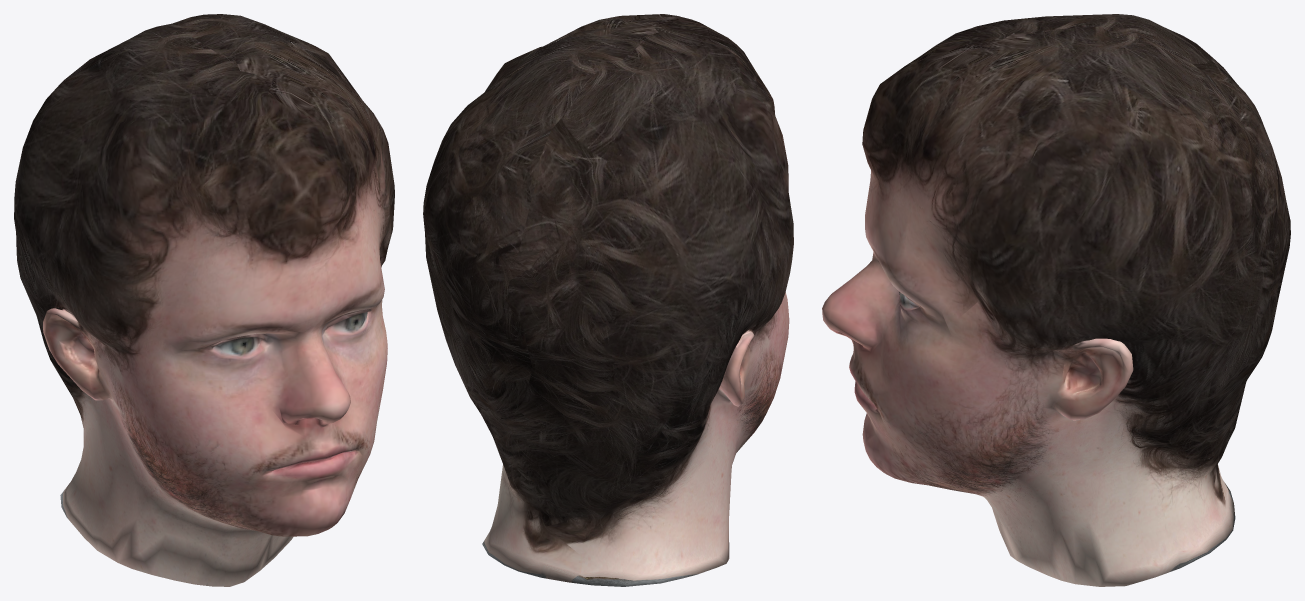
The model's file is PatrickHead_smaller2.glb.
3 views of the same model, side by side, from view 1: azimuth 30°, elevation 25°; view 2: azimuth 150°, elevation 25°; view 3: azimuth 270°, elevation 25° (orthographic). The views are drawn at different scales.
Visible parts, largest first — view 1: 2k head; view 2: 2k head; view 3: 2k head.
Boxes of the visible parts, box(x1,y1,x2,y2) form: 2k head: box(14, 14, 394, 586); 2k head: box(423, 14, 793, 586); 2k head: box(822, 14, 1290, 586).
Bounding box in the file's own units: 0.5903 × 0.9112 × 0.7333.
1 material, 1 textured.
